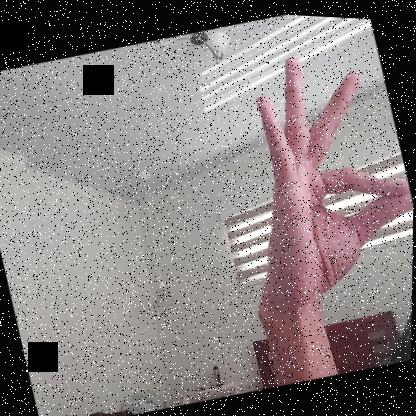F: (206, 26, 415, 315)
